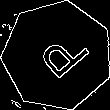P_SW: (26, 25, 89, 86)
